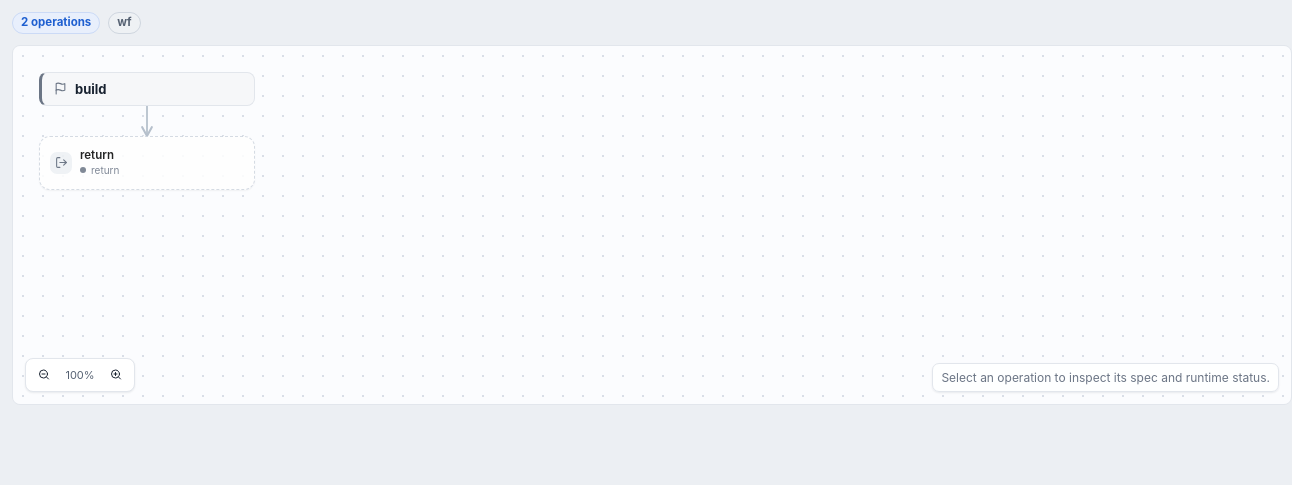
WorkflowFlow › does not mark return nodes completed on failed terminal runs
Click the button "return return" at (147,162), box [39,136,255,190]
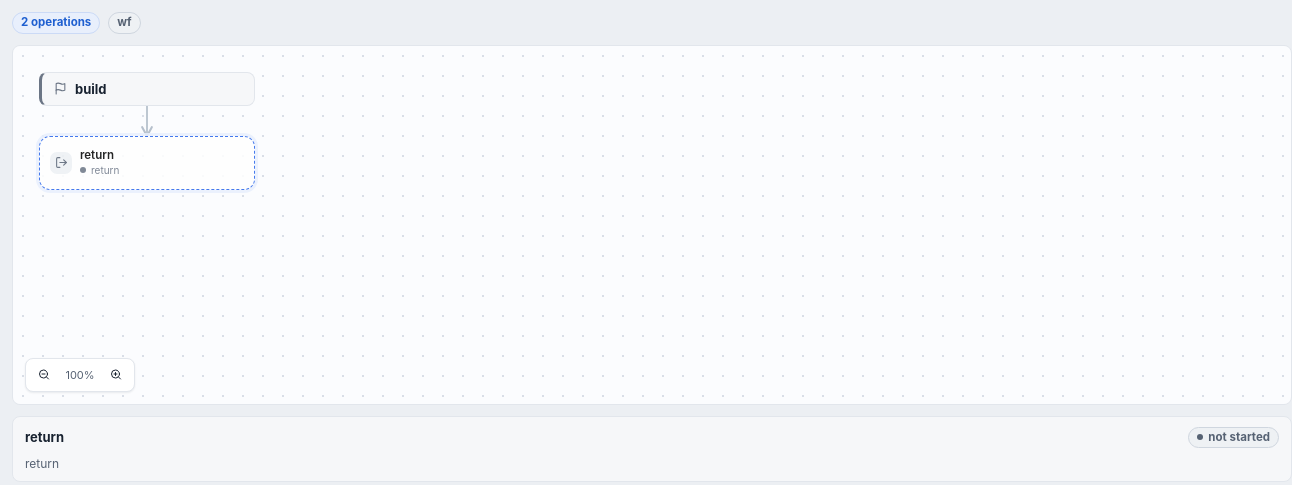
Now the text "not started" is shown, box [1188,426,1279,448]
